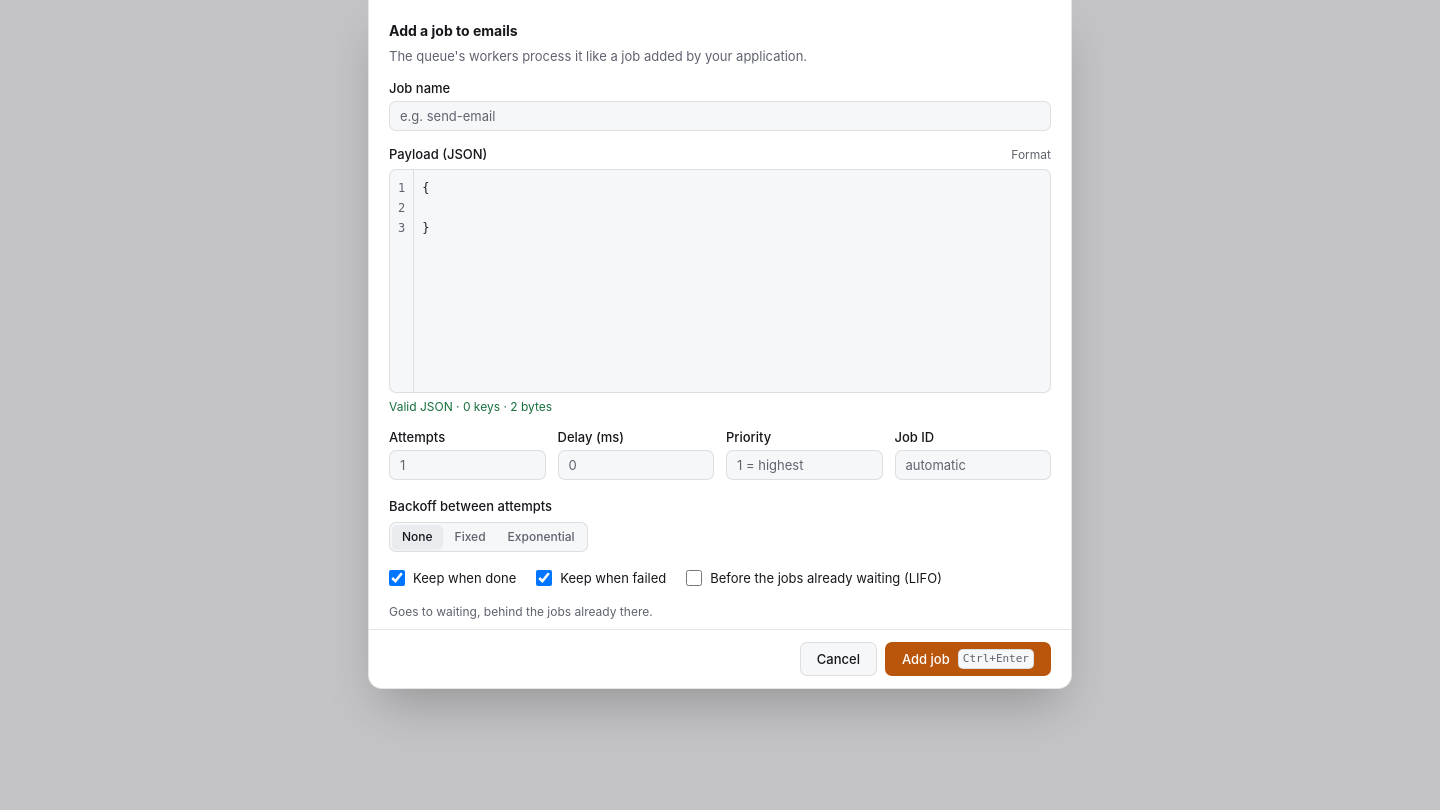
Scenario: AddJobDialog › does not send an invalid form and says what is wrong, per field
In the field labelled "Priority": coordinates (804, 465) [726,450,882,480], type "-4"
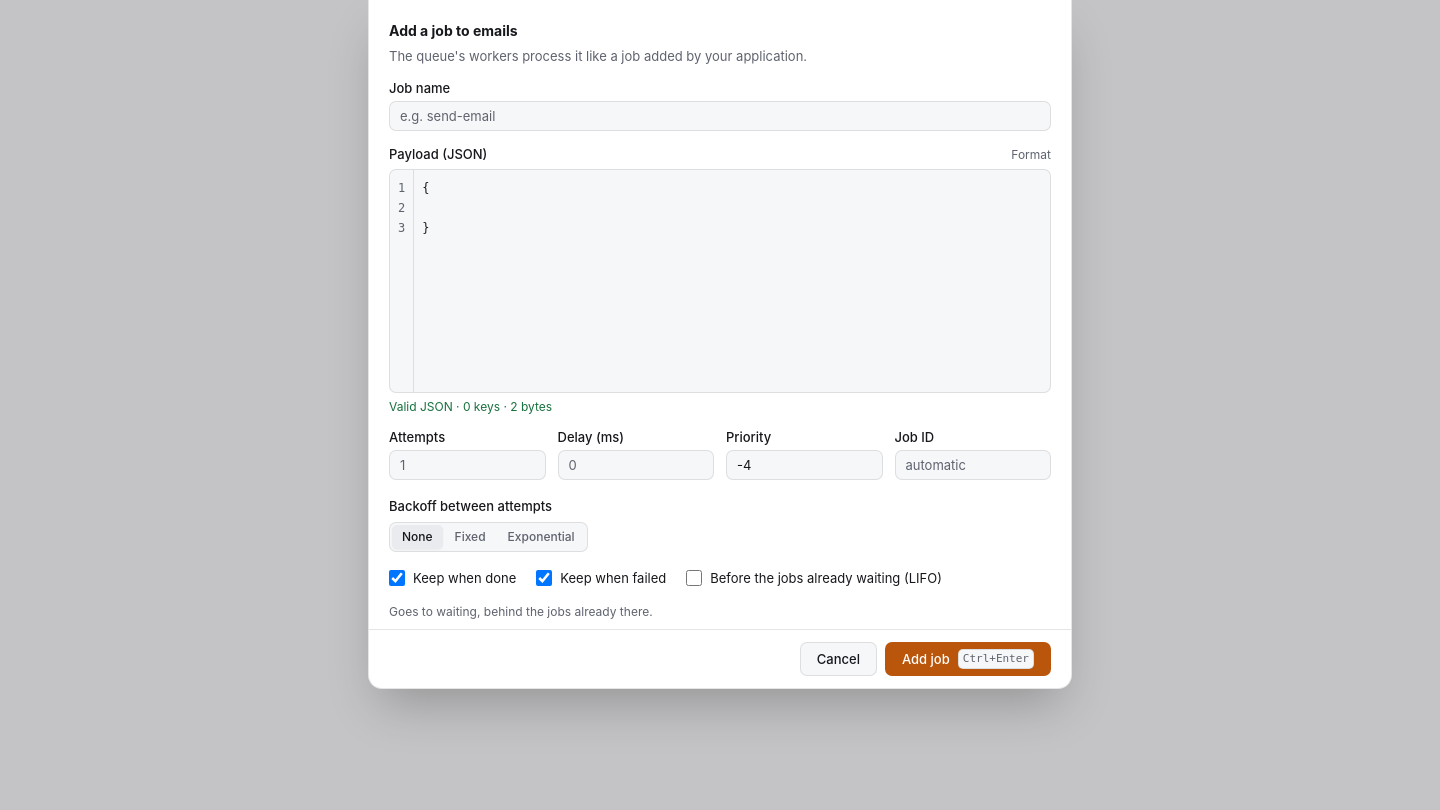
Click the button with test id "add-job-submit": coordinates (968, 658) [885,642,1051,676]
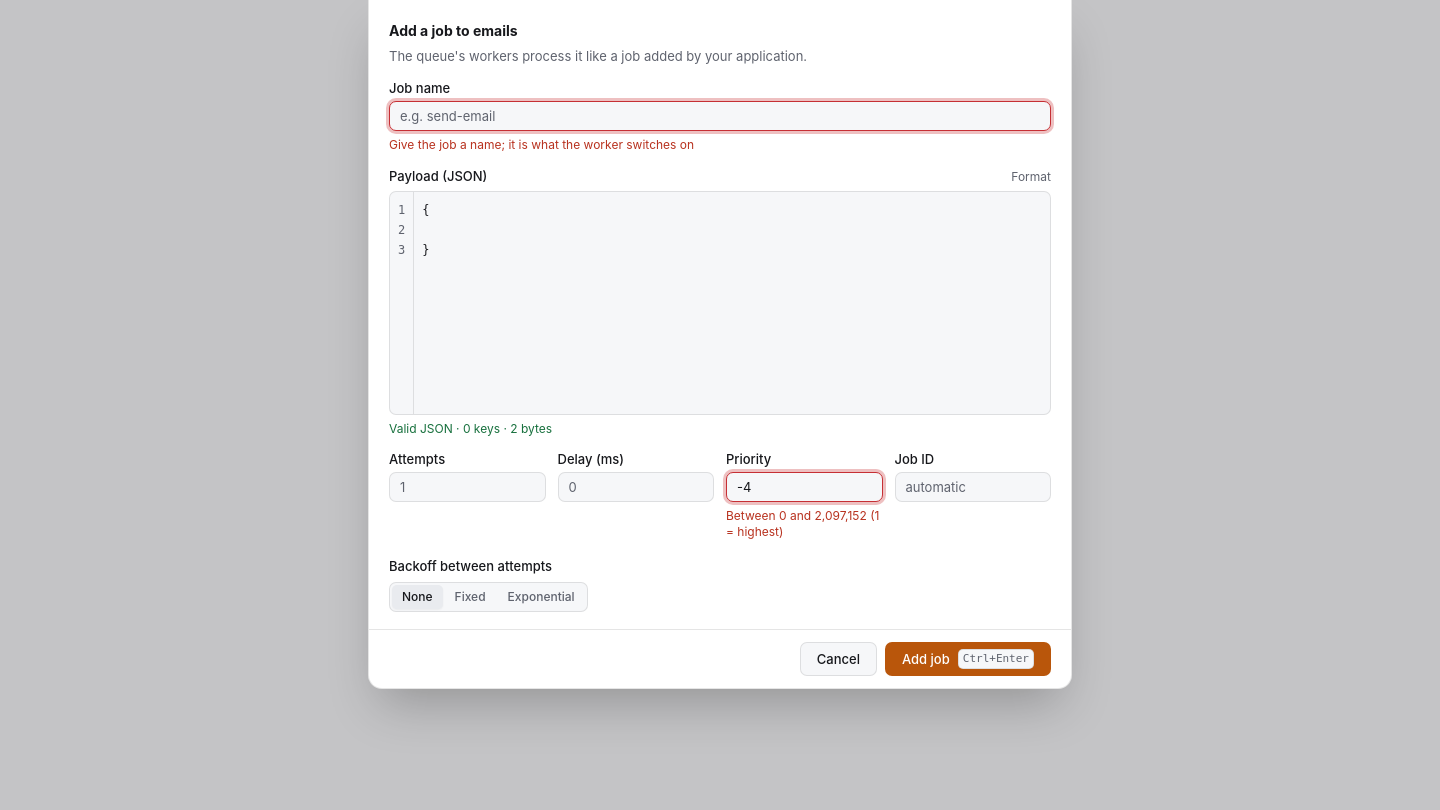
Now the text with test id "add-job-name-error" shows "name", box [389,137,694,152]
Now the text with test id "add-job-priority-error" shows "1 = highest", box [726,508,879,539]
